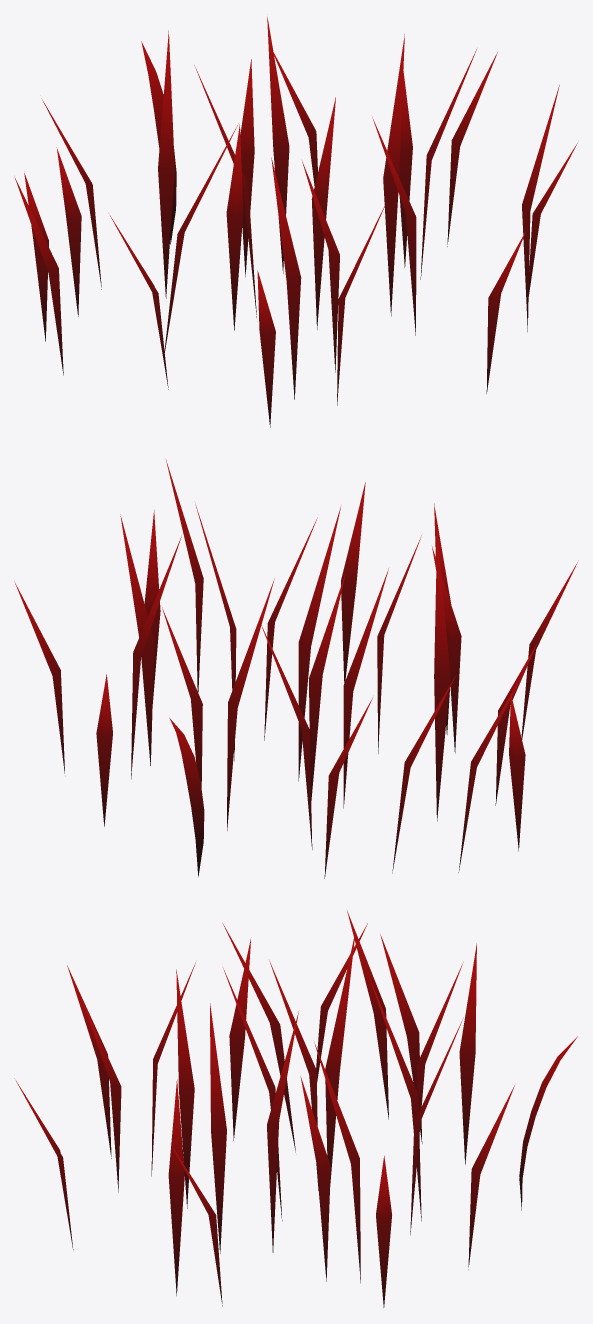
The model's file is Grass.fbx.
3 renders of one model, top to bottom at view 1: azimuth 30°, elevation 25°; view 2: azimuth 150°, elevation 25°; view 3: azimuth 270°, elevation 25°, orthographic. The views are drawn at different scales.
Parts seen in each view (by area): view 1: Grass; view 2: Grass; view 3: Grass.
Boxes of the visible parts, left/top/right/bottom form: Grass: left=14, top=17, right=577, bottom=427; Grass: left=14, top=460, right=578, bottom=878; Grass: left=14, top=910, right=577, bottom=1307.
Size of the model in its own units: 310 by 160 by 317.
